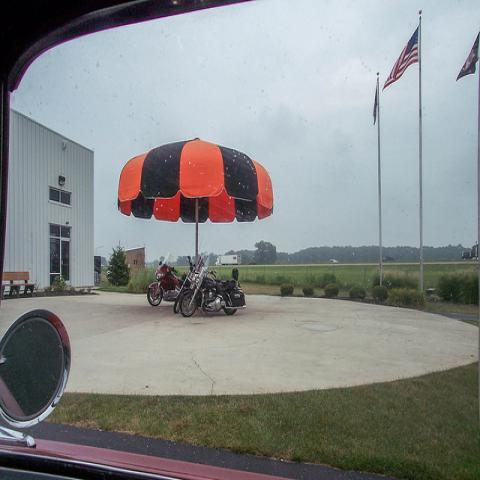car: (385, 255, 396, 261), (329, 258, 338, 264), (248, 260, 257, 265)
motorcycle: (181, 270, 248, 317), (147, 260, 189, 305)
truck: (214, 253, 241, 266)
